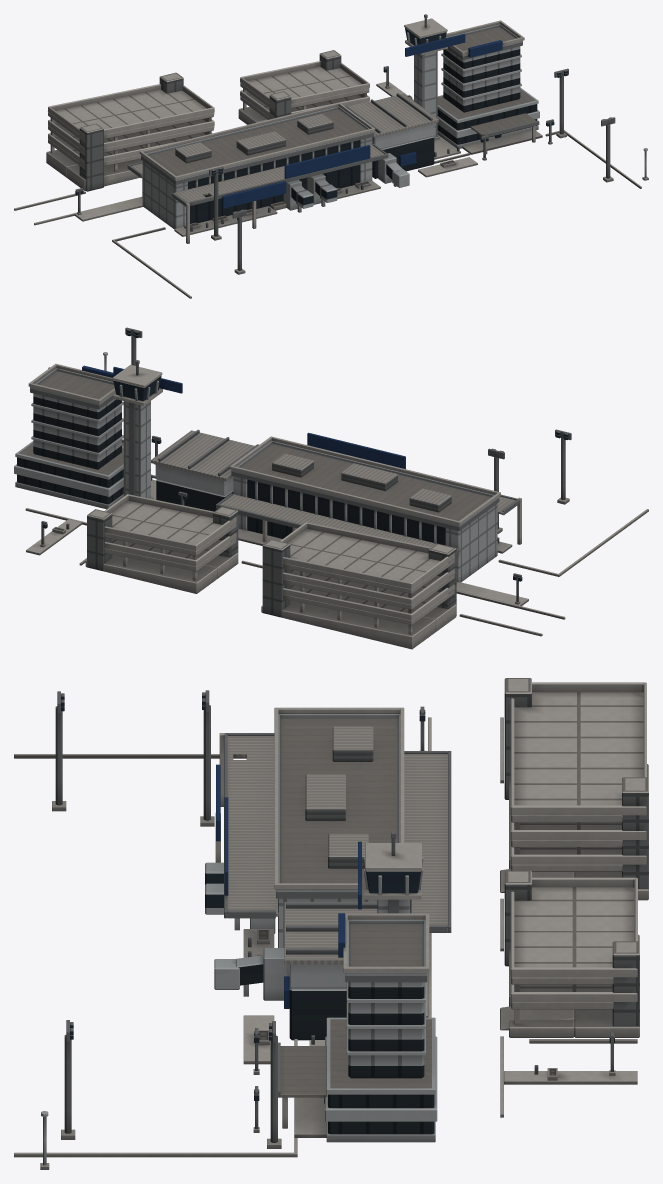
The model's file is airport.glb.
3 views of the same model, one above another, from view 1: azimuth 30°, elevation 25°; view 2: azimuth 150°, elevation 25°; view 3: azimuth 270°, elevation 25° (orthographic). The views are drawn at different scales.
Parts seen in each view (by area): view 1: fringe:tullamarine-terminal-body, fringe:tullamarine-car-park-body:a, fringe:tullamarine-hotel-body, fringe:tullamarine-car-park-body:b, fringe:tullamarine-t2-body, fringe:tullamarine-frontage, fringe:tullamarine-landside, fringe:tullamarine-airside-furniture, fringe:tullamarine-hotel-forecourt, fringe:tullamarine-apron-edge, fringe:tullamarine-t2-jetway, fringe:tullamarine-jetbridge:0 (+1 smaller); view 2: fringe:tullamarine-terminal-body, fringe:tullamarine-car-park-body:a, fringe:tullamarine-hotel-body, fringe:tullamarine-car-park-body:b, fringe:tullamarine-t2-body, fringe:tullamarine-landside, fringe:tullamarine-airside-furniture, fringe:tullamarine-apron-edge; view 3: fringe:tullamarine-terminal-body, fringe:tullamarine-car-park-body:a, fringe:tullamarine-hotel-body, fringe:tullamarine-car-park-body:b, fringe:tullamarine-t2-body, fringe:tullamarine-airside-furniture, fringe:tullamarine-landside, fringe:tullamarine-apron-edge, fringe:tullamarine-t2-jetway, fringe:tullamarine-frontage, fringe:tullamarine-hotel-forecourt, fringe:tullamarine-jetbridge:1.
Part boxes in pixels (left/top/right/bottom): fringe:tullamarine-terminal-body: left=127, top=14, right=465, bottom=243; fringe:tullamarine-car-park-body:a: left=46, top=72, right=214, bottom=191; fringe:tullamarine-hotel-body: left=437, top=20, right=539, bottom=154; fringe:tullamarine-car-park-body:b: left=238, top=50, right=369, bottom=124; fringe:tullamarine-t2-body: left=345, top=93, right=438, bottom=178; fringe:tullamarine-frontage: left=174, top=157, right=477, bottom=236; fringe:tullamarine-landside: left=14, top=66, right=460, bottom=225; fringe:tullamarine-airside-furniture: left=209, top=68, right=648, bottom=274; fringe:tullamarine-hotel-forecourt: left=462, top=119, right=554, bottom=160; fringe:tullamarine-apron-edge: left=112, top=130, right=641, bottom=298; fringe:tullamarine-t2-jetway: left=378, top=153, right=409, bottom=187; fringe:tullamarine-jetbridge:0: left=283, top=179, right=313, bottom=212; fringe:tullamarine-terminal-body: left=112, top=360, right=521, bottom=582; fringe:tullamarine-car-park-body:a: left=261, top=522, right=456, bottom=649; fringe:tullamarine-hotel-body: left=14, top=363, right=123, bottom=509; fringe:tullamarine-car-park-body:b: left=85, top=494, right=238, bottom=593; fringe:tullamarine-t2-body: left=151, top=429, right=258, bottom=511; fringe:tullamarine-landside: left=25, top=474, right=565, bottom=636; fringe:tullamarine-airside-furniture: left=48, top=327, right=571, bottom=533; fringe:tullamarine-apron-edge: left=152, top=475, right=648, bottom=576; fringe:tullamarine-terminal-body: left=215, top=707, right=451, bottom=976; fringe:tullamarine-car-park-body:a: left=500, top=678, right=648, bottom=900; fringe:tullamarine-hotel-body: left=278, top=913, right=437, bottom=1142; fringe:tullamarine-car-park-body:b: left=500, top=870, right=639, bottom=1037; fringe:tullamarine-t2-body: left=284, top=902, right=412, bottom=1040; fringe:tullamarine-airside-furniture: left=40, top=690, right=281, bottom=1169; fringe:tullamarine-landside: left=309, top=706, right=637, bottom=1117; fringe:tullamarine-apron-edge: left=14, top=754, right=297, bottom=1157; fringe:tullamarine-t2-jetway: left=214, top=948, right=288, bottom=1000; fringe:tullamarine-frontage: left=243, top=929, right=274, bottom=1064; fringe:tullamarine-hotel-forecourt: left=253, top=1028, right=326, bottom=1137; fringe:tullamarine-jetbridge:1: left=205, top=883, right=275, bottom=933.
Size of the model in its own units: 118 by 27.56 by 70.25.
7 materials, 7 textured.
